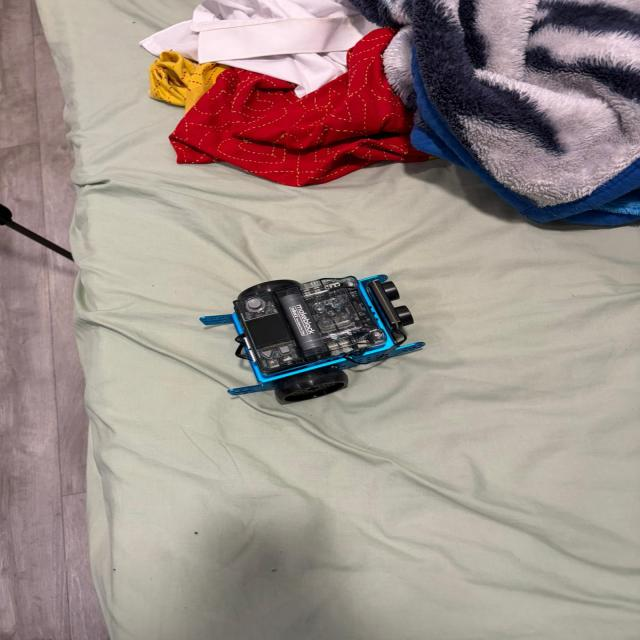mbot-detection: (193, 267, 434, 408)
